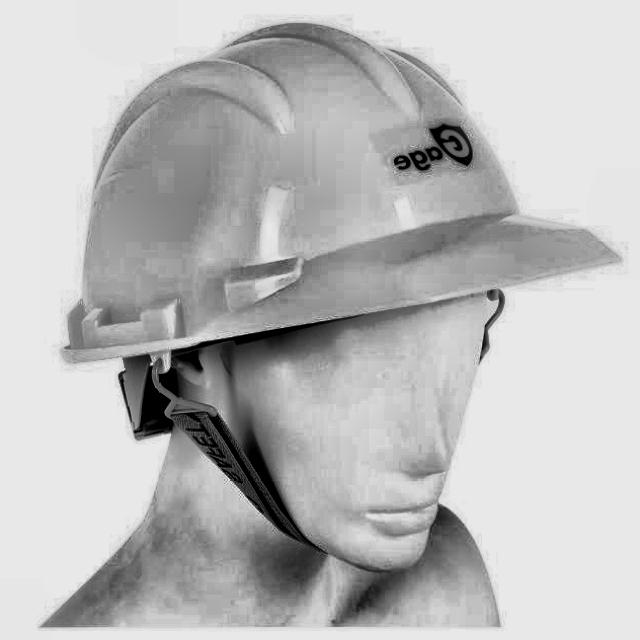Helmet: (47, 10, 632, 582)
